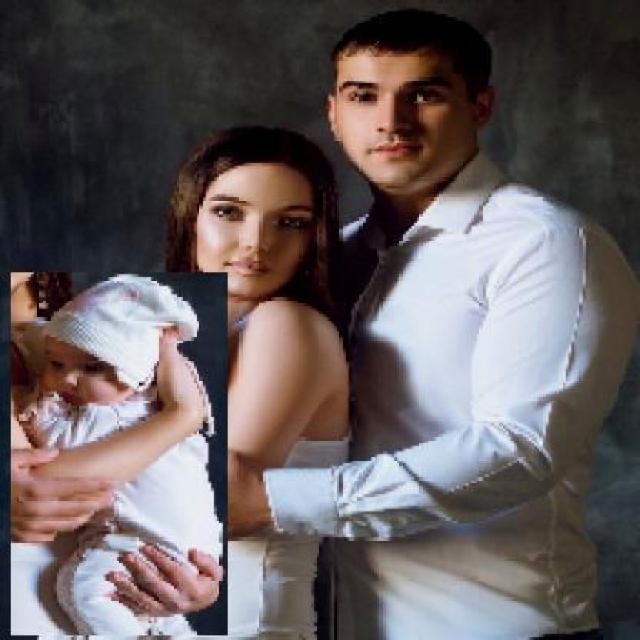child: (8, 272, 228, 637)
